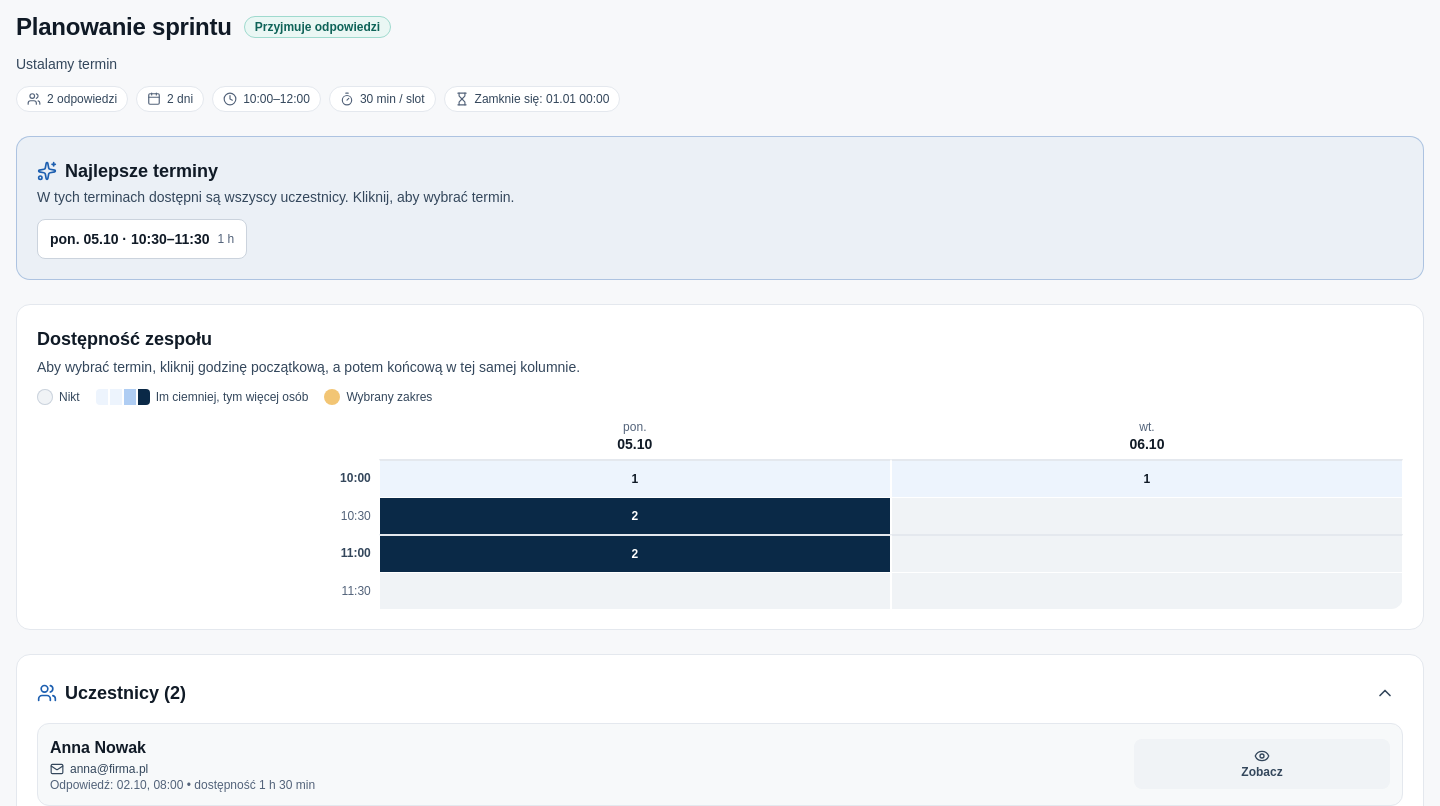
MeetingPollResults › po wybraniu osoby pokazuje wyłącznie jej dostępność
expect the heading "Planowanie sprintu" is shown: met, box [16,12,232,42]
Click the button with aria-label "Zobacz dostępność: Anna Nowak": (1262, 764) [1134,739,1390,789]
(page scrolled)
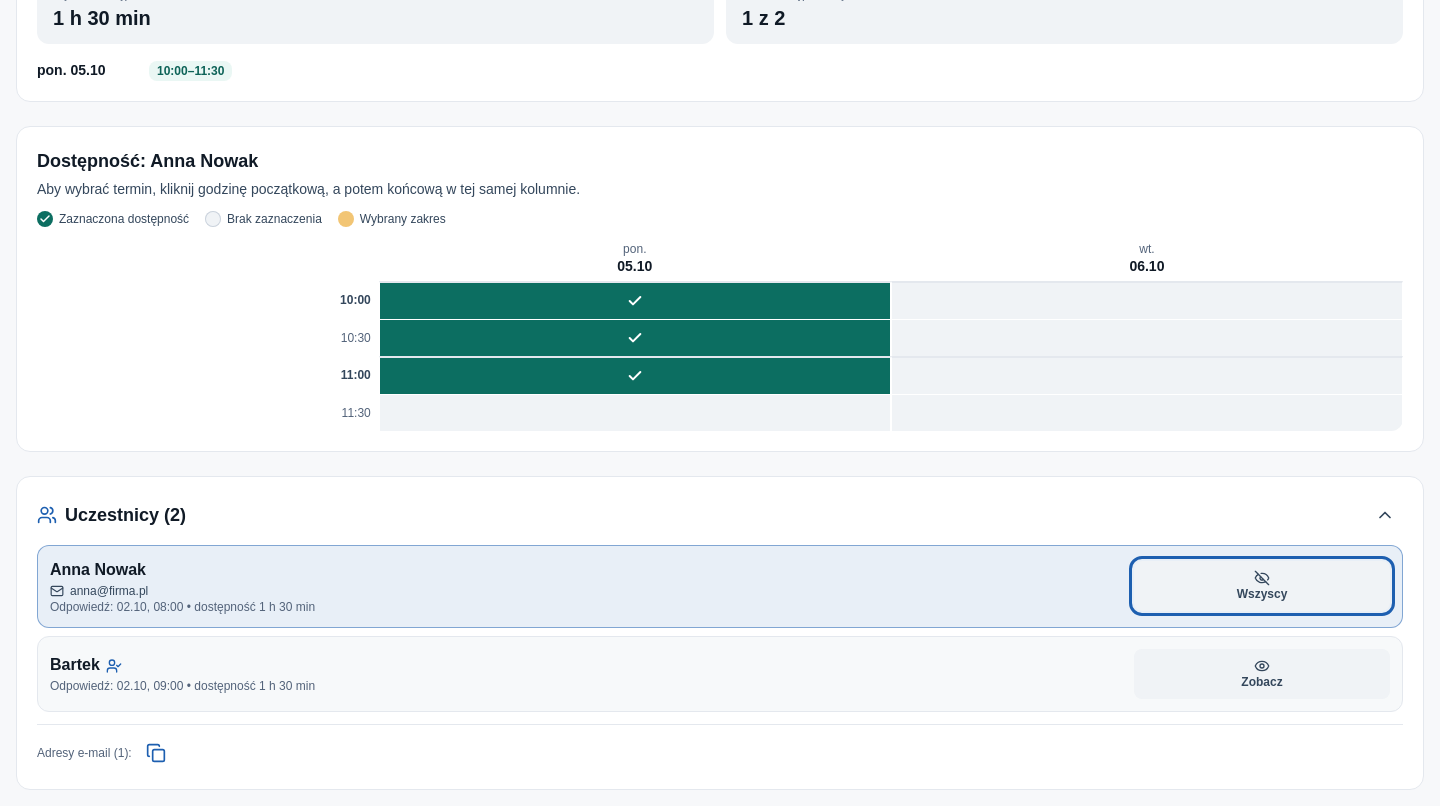
expect the text "1 h 30 min" is shown: met, box [53,7,151,29]
expect the text "1 z 2" is shown: met, box [742,7,785,29]
expect the text "10:00–11:30" is shown: met, box [149,61,232,81]
